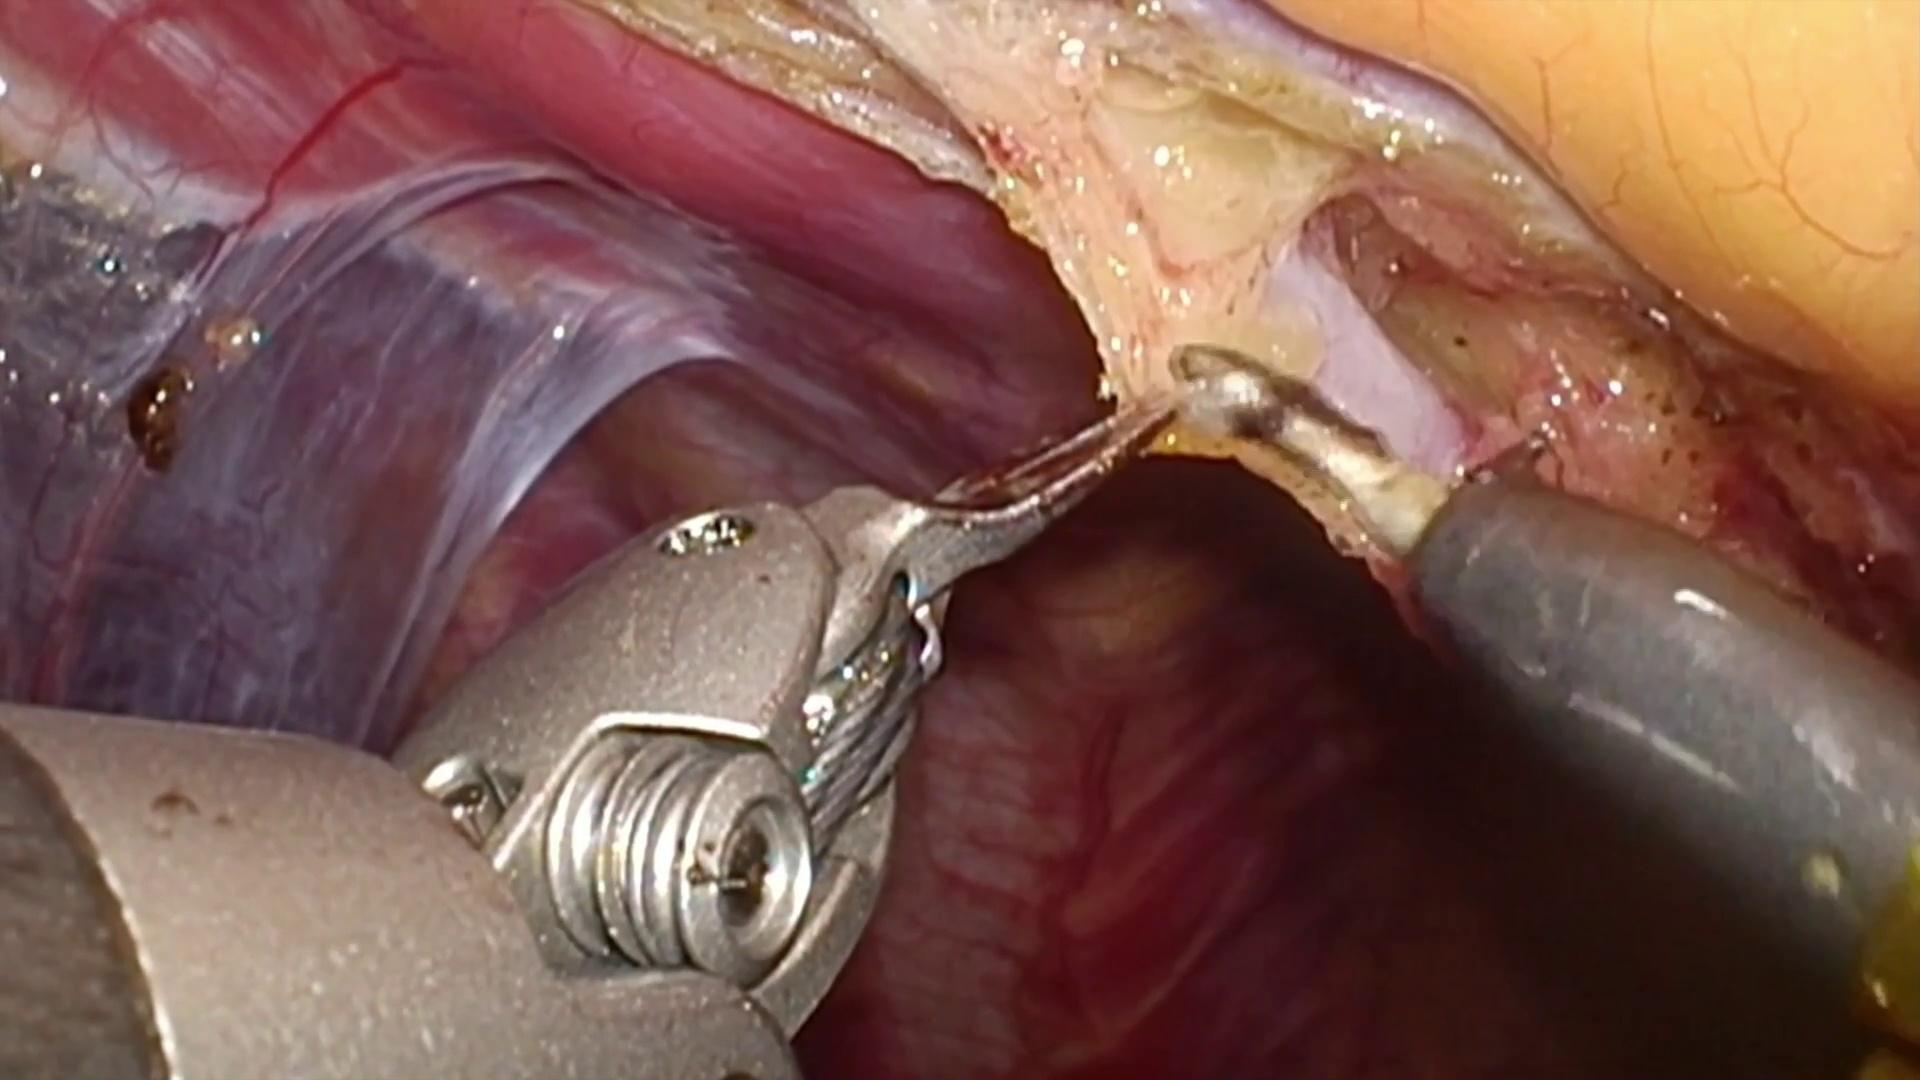Cautery_Spatula: (1176, 344, 1920, 993)
Debakey: (789, 352, 1172, 731)
